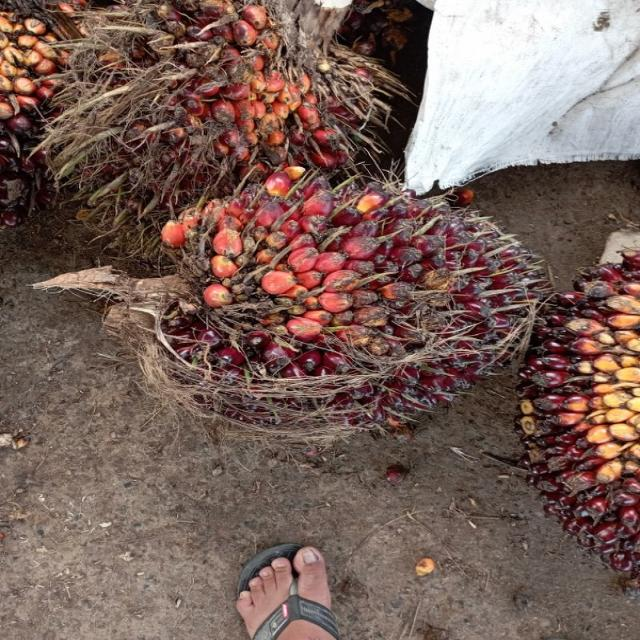fraksi 1: (151, 176, 542, 450), (62, 0, 401, 254)
